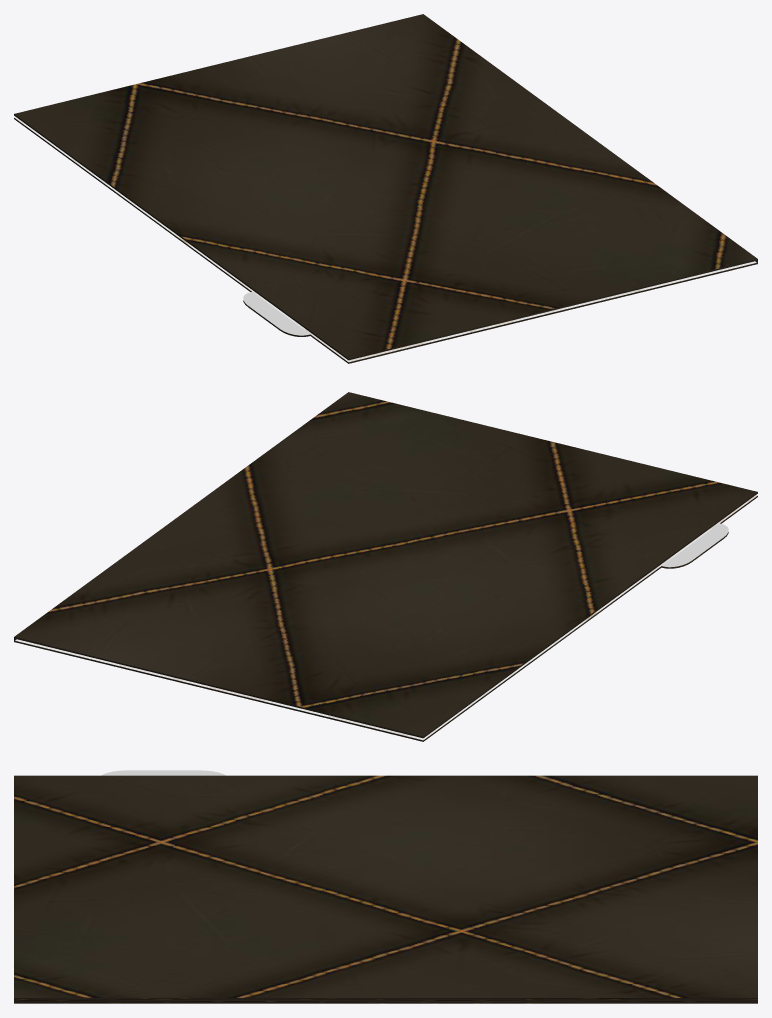
Rendered from Pasta.fbx.
3 renders of one model, top to bottom at view 1: azimuth 30°, elevation 25°; view 2: azimuth 150°, elevation 25°; view 3: azimuth 270°, elevation 25°, orthographic. The views are drawn at different scales.
Visible parts, largest first — view 1: papel.002, papel.001; view 2: papel.002, papel.001; view 3: papel.002, papel.001.
Boxes of the visible parts, x1,y1,x2,y2 form: papel.002: (14,14,757,360); papel.001: (14,117,757,363); papel.002: (14,392,757,738); papel.001: (14,495,757,741); papel.002: (14,775,757,999); papel.001: (14,770,757,1003).
Bounding box in the file's own units: 88.85 × 1.02 × 121.
